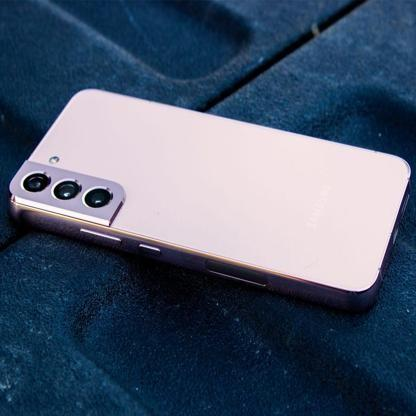not trash: (8, 90, 416, 304)
